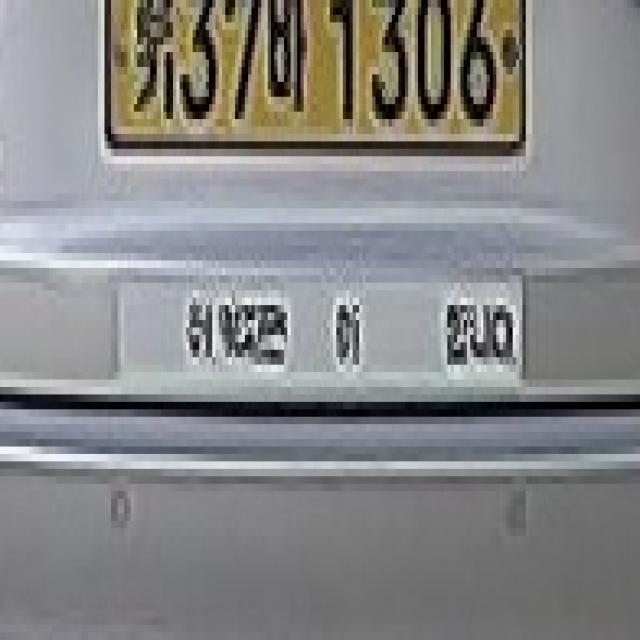plat: (100, 0, 528, 162)
